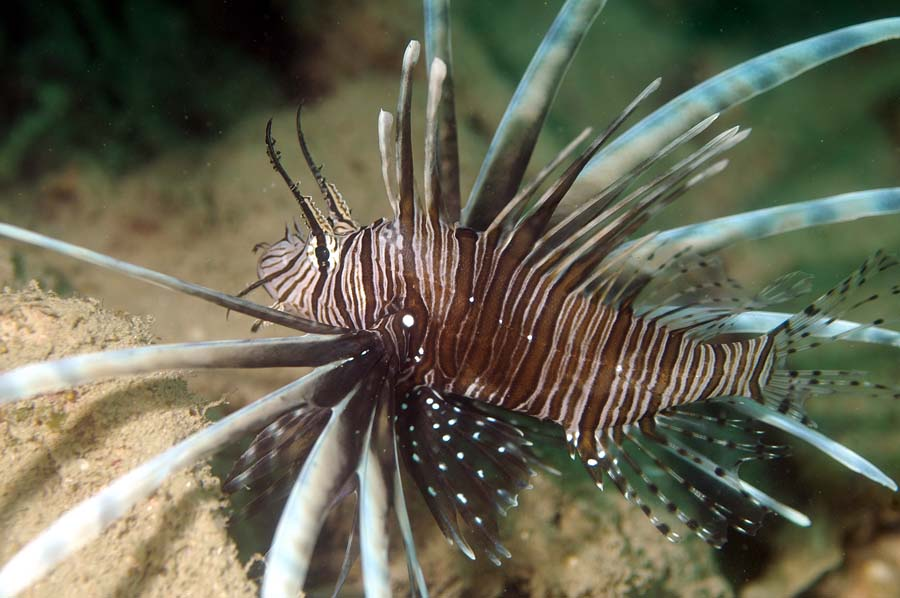Pterois_volitans: (20, 6, 854, 571)
